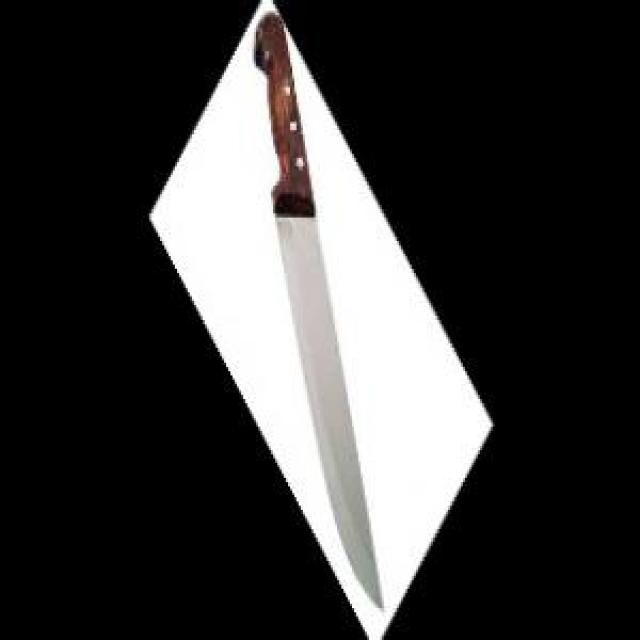knife: (250, 13, 389, 616)
